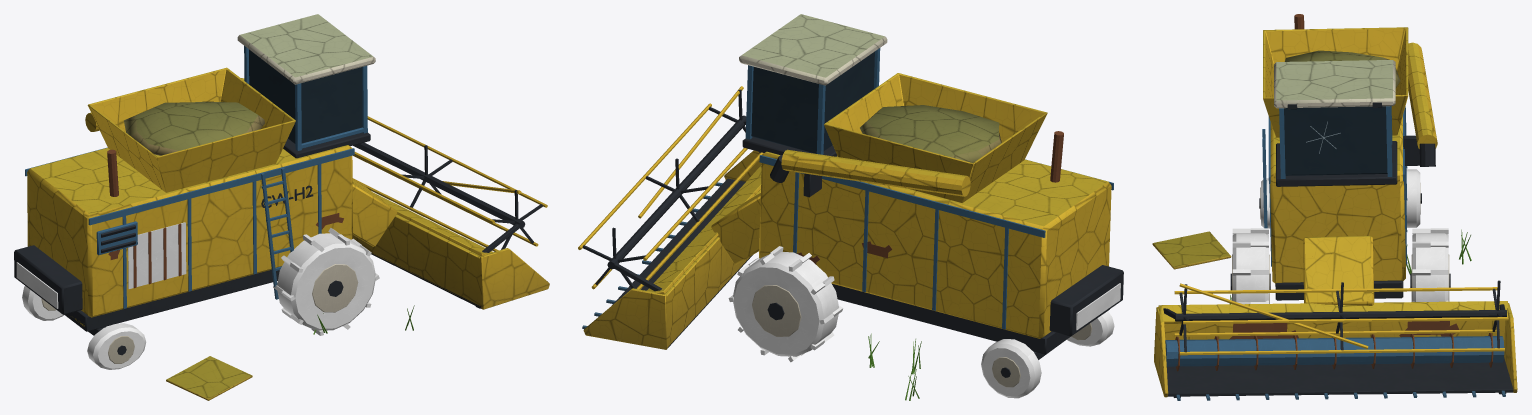
File: harvester_combine_wreck.glb
The picture shows the model from 3 angles, left to right: view 1: azimuth 30°, elevation 25°; view 2: azimuth 150°, elevation 25°; view 3: azimuth 270°, elevation 25°; orthographic projection. The views are drawn at different scales.
Parts seen in each view (by area): view 1: harvester_combine_wreck; view 2: harvester_combine_wreck; view 3: harvester_combine_wreck.
Boxes of the visible parts, bbox=[...] form: harvester_combine_wreck: bbox=[14, 14, 549, 400]; harvester_combine_wreck: bbox=[578, 14, 1123, 400]; harvester_combine_wreck: bbox=[1152, 14, 1517, 400].
Bounding box in the file's own units: 8.73 × 4.79 × 6.01.
19 materials, 19 textured.
